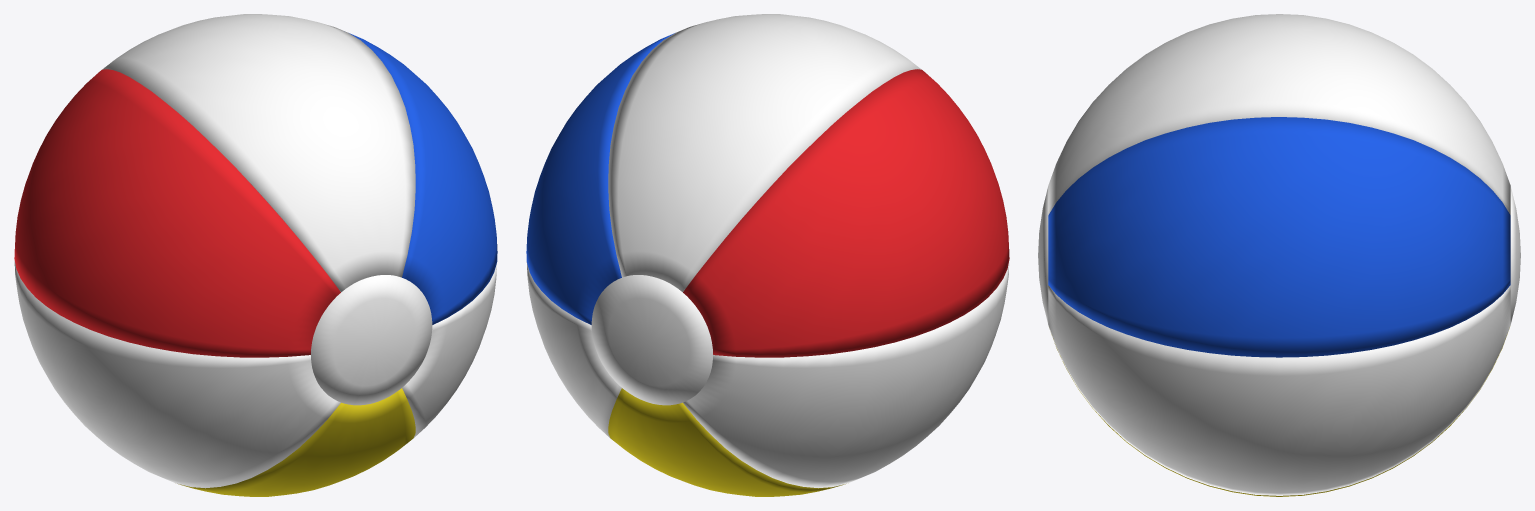
Rendered from ball.glb.
3 views of the same model, side by side, from view 1: azimuth 30°, elevation 25°; view 2: azimuth 150°, elevation 25°; view 3: azimuth 270°, elevation 25° (orthographic).
Parts seen in each view (by area): view 1: beach_ball_red_0; view 2: beach_ball_red_0; view 3: beach_ball_red_0.
Boxes of the visible parts, box(x1,y1,x2,y2) form: beach_ball_red_0: box(14, 14, 497, 496); beach_ball_red_0: box(526, 14, 1009, 496); beach_ball_red_0: box(1038, 14, 1520, 496).
Bounding box in the file's own units: 2 × 2 × 2.
